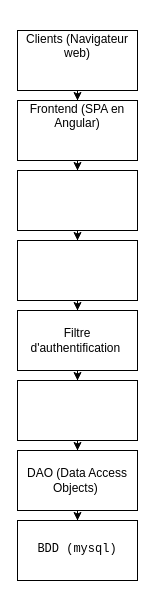
This 155x598 diagram has some shape labels left out. The shapes that lost their labels are listed below. From the top down, each one's centre as x and y in pixels, then its label:
At pixel 77 200: "Serveur d'applications (Tomcat)".
At pixel 77 270: "Backend (Java Servlets)".
At pixel 77 410: "API REST".
